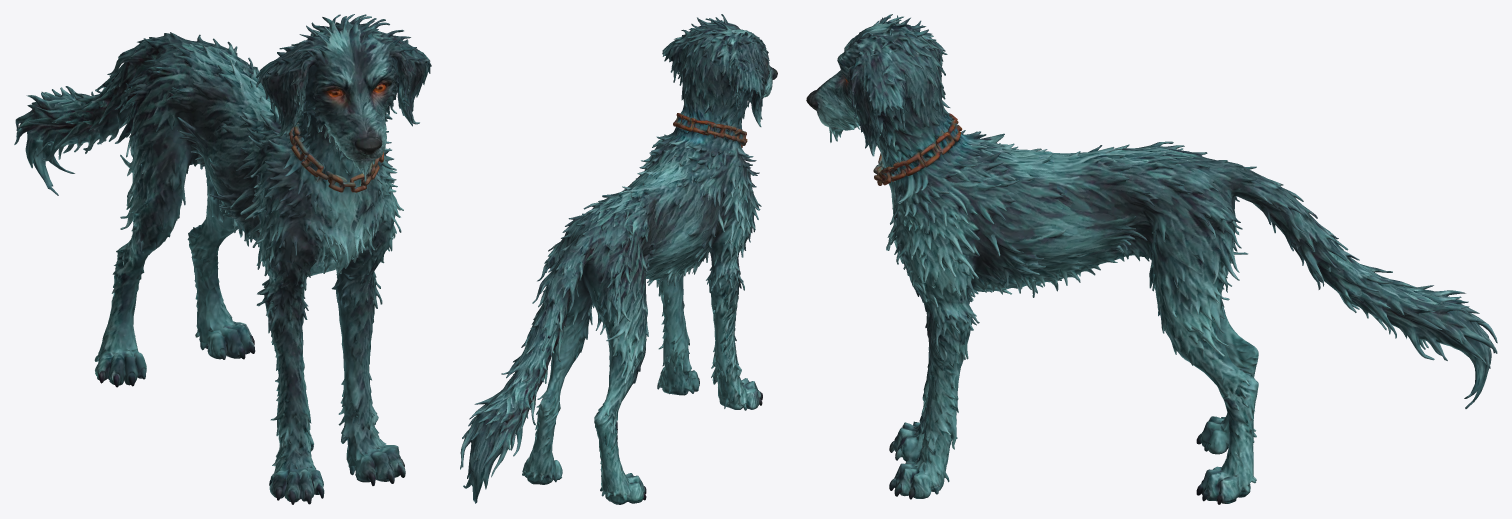
The model's file is figurine-barghest.glb.
3 renders of one model, left to right at view 1: azimuth 30°, elevation 25°; view 2: azimuth 150°, elevation 25°; view 3: azimuth 270°, elevation 25°, orthographic. The views are drawn at different scales.
Visible parts, largest first — view 1: tripo_node_f3db316f-8d77-496d-b1f5-94505477297c; view 2: tripo_node_f3db316f-8d77-496d-b1f5-94505477297c; view 3: tripo_node_f3db316f-8d77-496d-b1f5-94505477297c.
Part boxes in pixels (bbox=[...]): tripo_node_f3db316f-8d77-496d-b1f5-94505477297c: bbox=[14, 14, 431, 504]; tripo_node_f3db316f-8d77-496d-b1f5-94505477297c: bbox=[460, 14, 777, 504]; tripo_node_f3db316f-8d77-496d-b1f5-94505477297c: bbox=[806, 14, 1497, 504].
Size of the model in its own units: 0.2381 by 0.7034 by 0.9789.
Materials: 1 (1 with a texture image).
